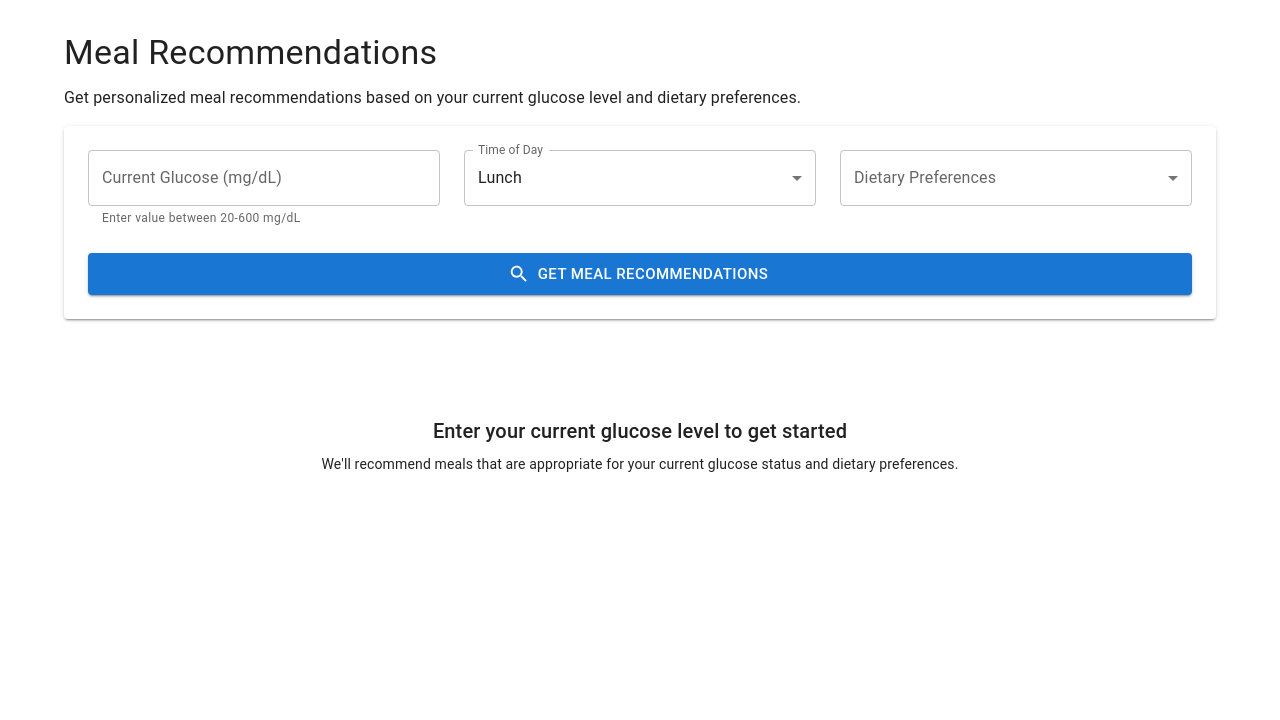
MealRecommendations Component › fetches and displays meal recommendations
This screenshot has width=1280, height=720.
// Enter glucose value
Type "120" into the number field labelled "Current Glucose (mg/dL)".
click(264, 178); type("120")  # box [88,150,440,206]
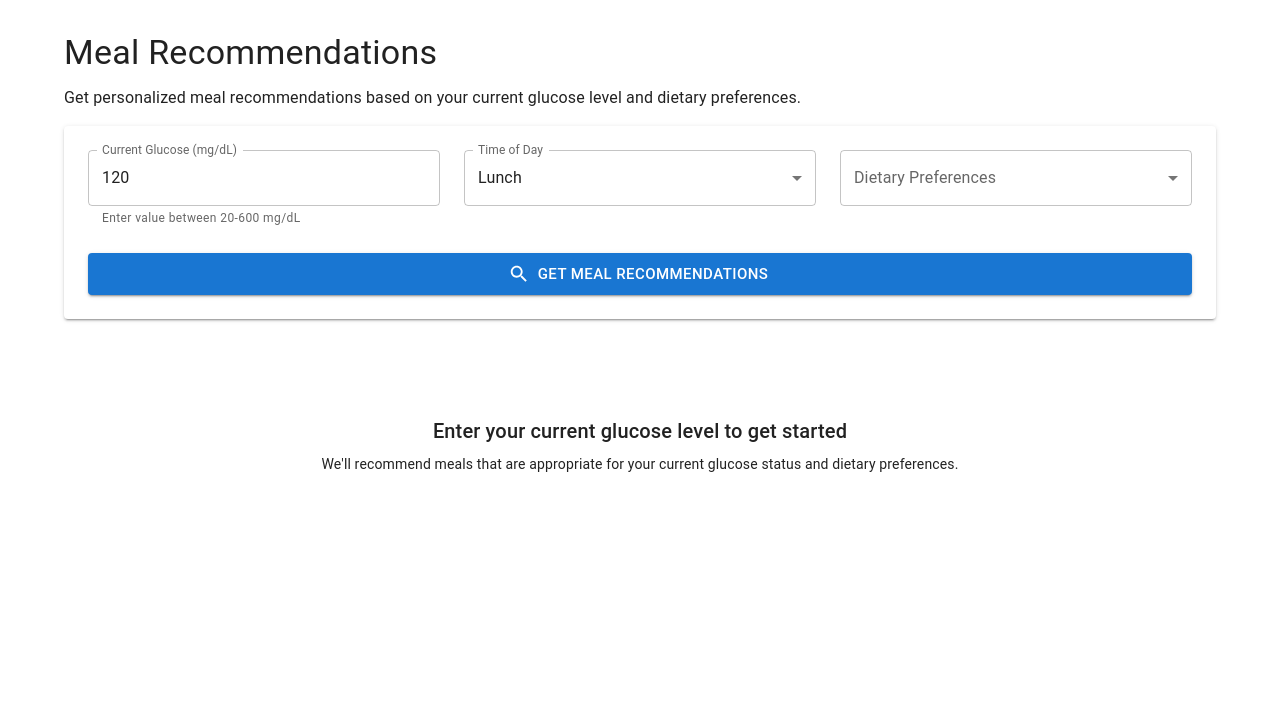
// Click search button
Click the button "Get Meal Recommendations".
click(640, 274)  # box [88,253,1192,295]
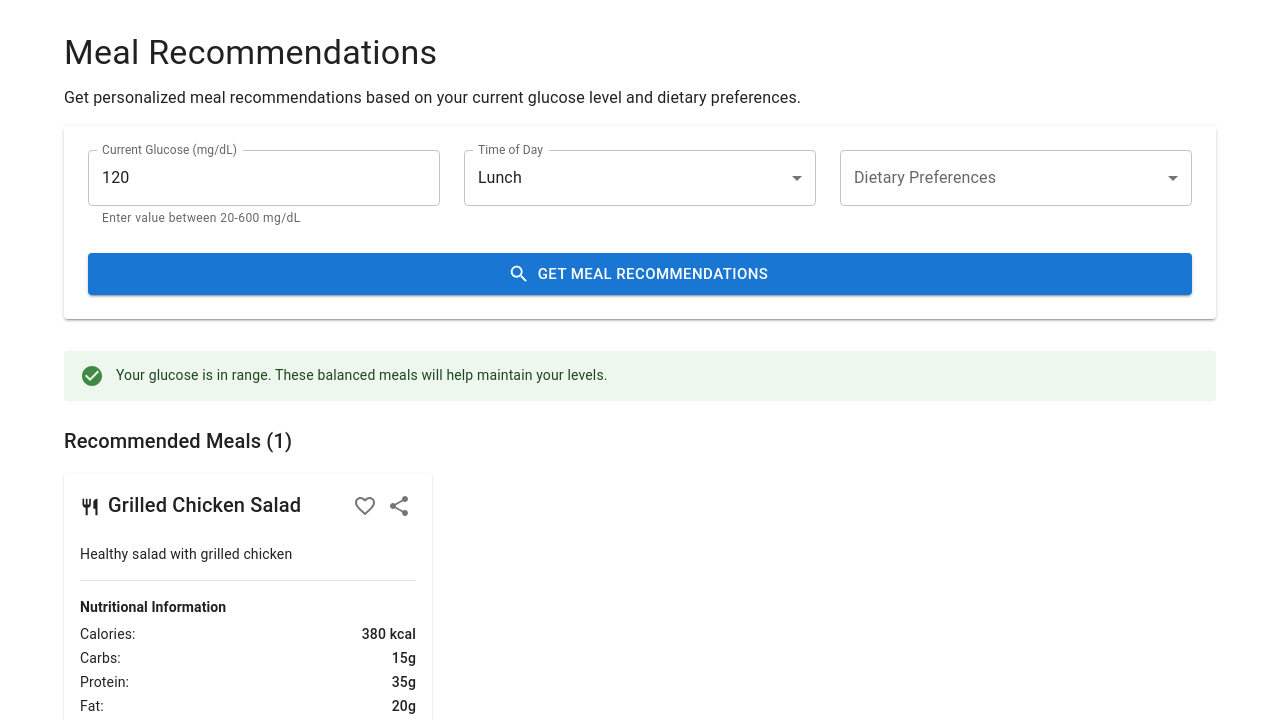
Check: the heading "Grilled Chicken Salad" is shown, box [80,493,301,517]
